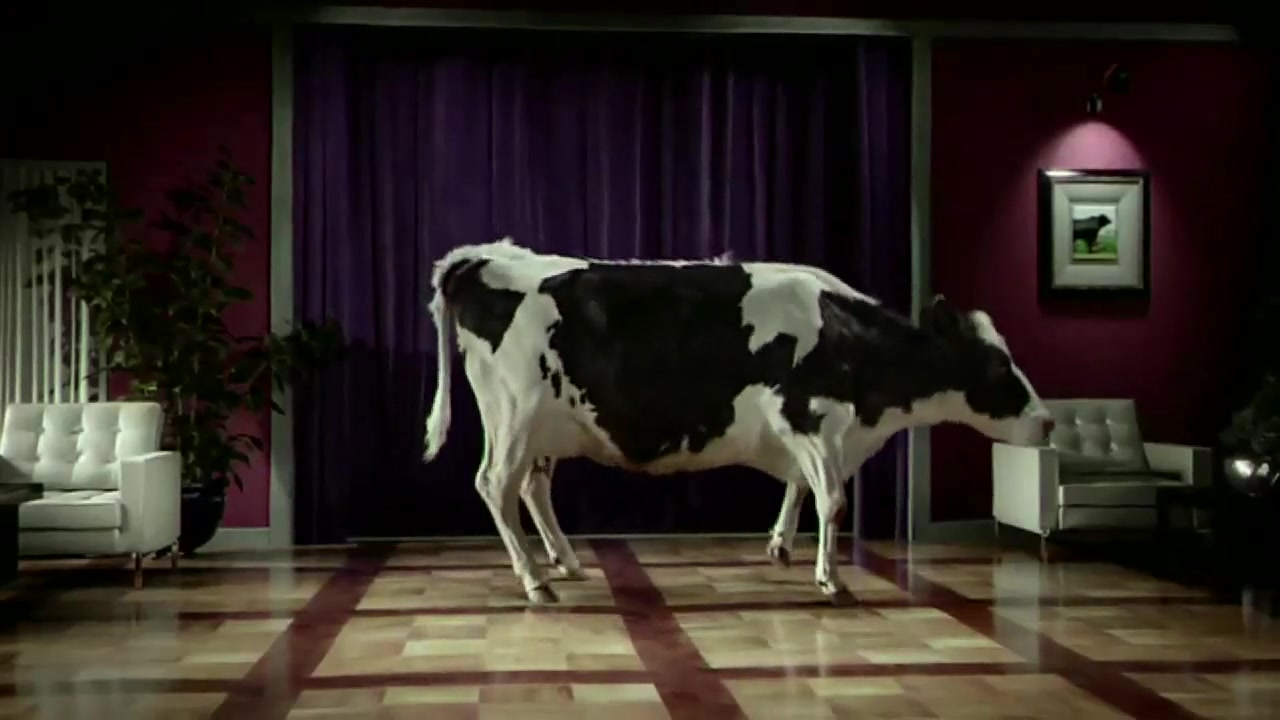cow: (421, 233, 1058, 609)
